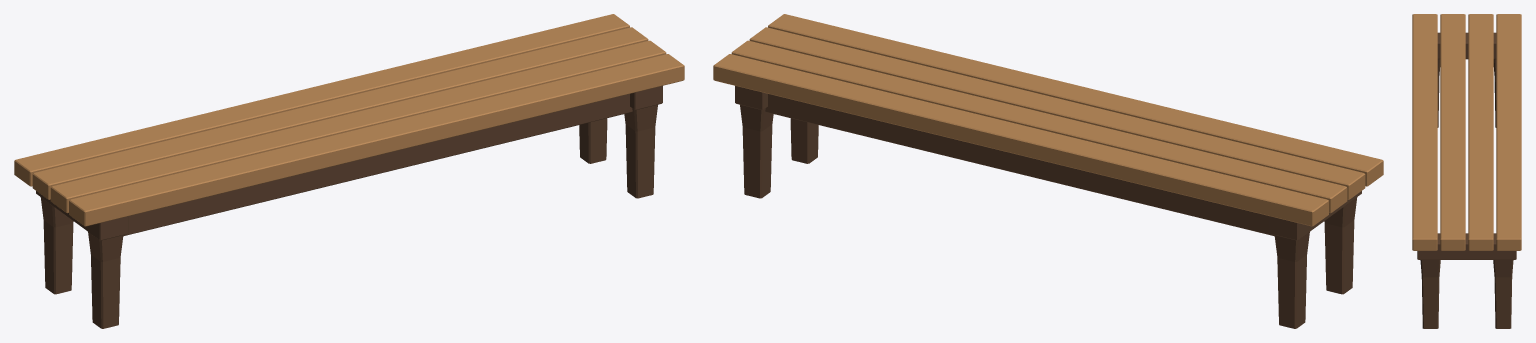
File: asset.glb
3 views of the same model, side by side, from view 1: azimuth 30°, elevation 25°; view 2: azimuth 150°, elevation 25°; view 3: azimuth 270°, elevation 25° (orthographic). The views are drawn at different scales.
Visible parts, largest first — view 1: seat-slat-3, seat-slat-0, seat-slat-2, seat-slat-1, apron-1, leg--1-1, leg-1-1, leg--1--1, leg-1--1, seat-support--1, seat-support-1; view 2: seat-slat-0, seat-slat-1, seat-slat-3, seat-slat-2, apron--1, leg--1--1, leg-1--1, leg--1-1, leg-1-1, seat-support--1, seat-support-1; view 3: seat-slat-0, seat-slat-1, seat-slat-2, seat-slat-3, leg-1--1, leg-1-1, seat-support-1, seat-support--1, leg--1--1, leg--1-1.
Boxes of the visible parts, x1,y1,x2,y2 form: seat-slat-3: (69, 54, 684, 226); seat-slat-0: (14, 14, 629, 186); seat-slat-2: (50, 40, 666, 213); seat-slat-1: (32, 27, 648, 199); apron-1: (123, 94, 632, 236); leg--1-1: (88, 232, 123, 328); leg-1-1: (624, 105, 657, 198); leg--1--1: (40, 197, 73, 294); leg-1--1: (579, 118, 607, 163); seat-support--1: (36, 191, 128, 240); seat-support-1: (630, 86, 662, 109); seat-slat-0: (713, 54, 1328, 226); seat-slat-1: (731, 40, 1347, 213); seat-slat-3: (768, 14, 1383, 186); seat-slat-2: (749, 27, 1365, 199); apron--1: (765, 94, 1274, 236); leg--1--1: (1274, 232, 1309, 328); leg-1--1: (740, 105, 773, 198); leg--1-1: (1324, 197, 1357, 294); leg-1-1: (790, 118, 818, 163); seat-support--1: (1269, 191, 1361, 240); seat-support-1: (735, 86, 767, 109); seat-slat-0: (1496, 14, 1521, 250); seat-slat-1: (1468, 14, 1493, 250); seat-slat-2: (1440, 14, 1465, 250); seat-slat-3: (1412, 14, 1437, 250); leg-1--1: (1493, 260, 1513, 328); leg-1-1: (1420, 260, 1440, 328); seat-support-1: (1417, 233, 1516, 259); seat-support--1: (1437, 32, 1496, 59); leg--1--1: (1493, 59, 1496, 127); leg--1-1: (1437, 59, 1440, 127).
Size of the model in its own units: 2.2 by 0.45 by 0.45.
